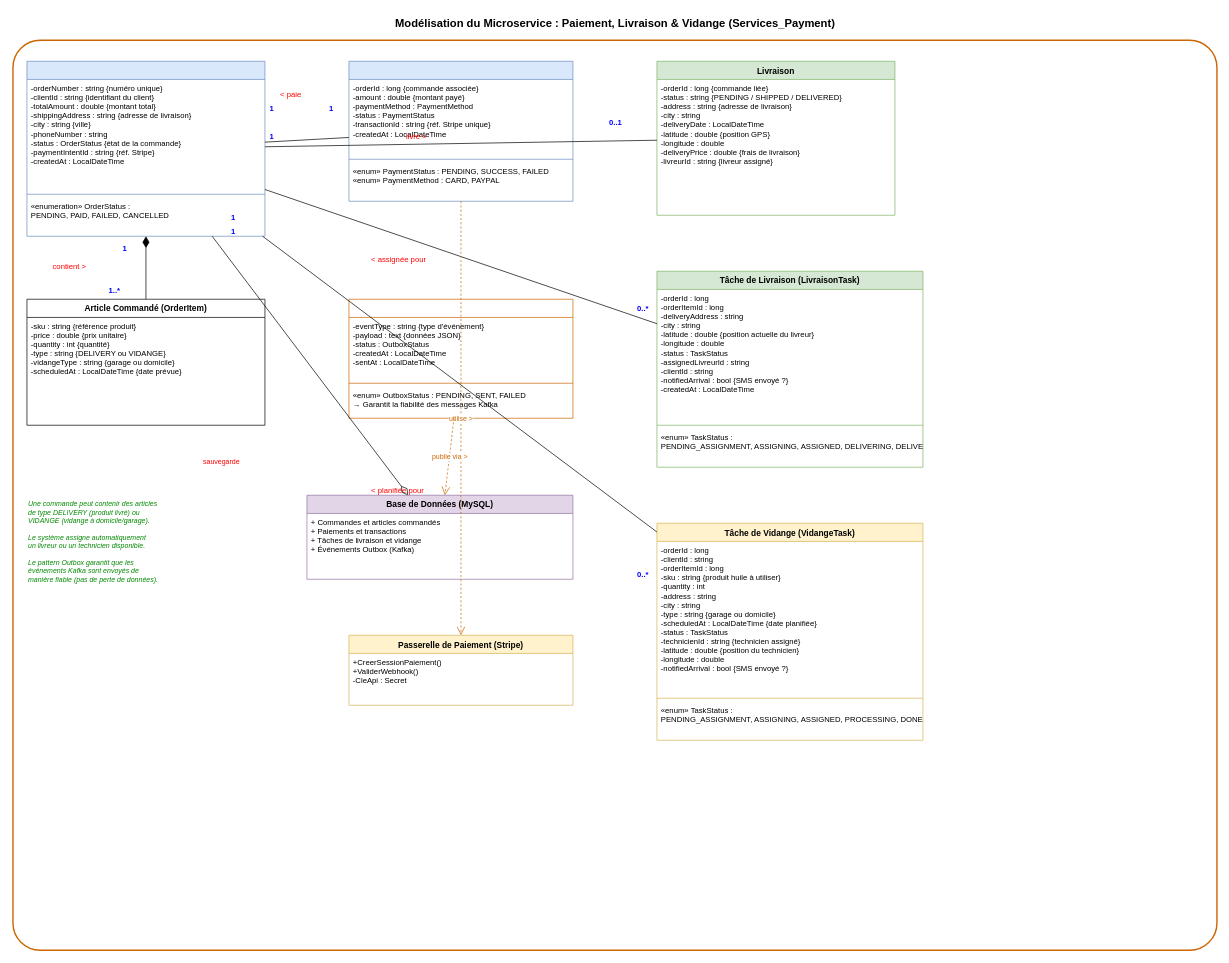
Some shapes in this 1229 by 963 pixel diagram are drawn without their labels. The shapes that lost their labels are listed below. From the top down, each one's box as (x1, y1, x2, y2) in pixels, then its label:
(26, 61, 265, 236): Commande (Order)
(348, 61, 573, 201): Paiement (Payment)
(348, 299, 573, 418): Outbox (Événements à publier)
